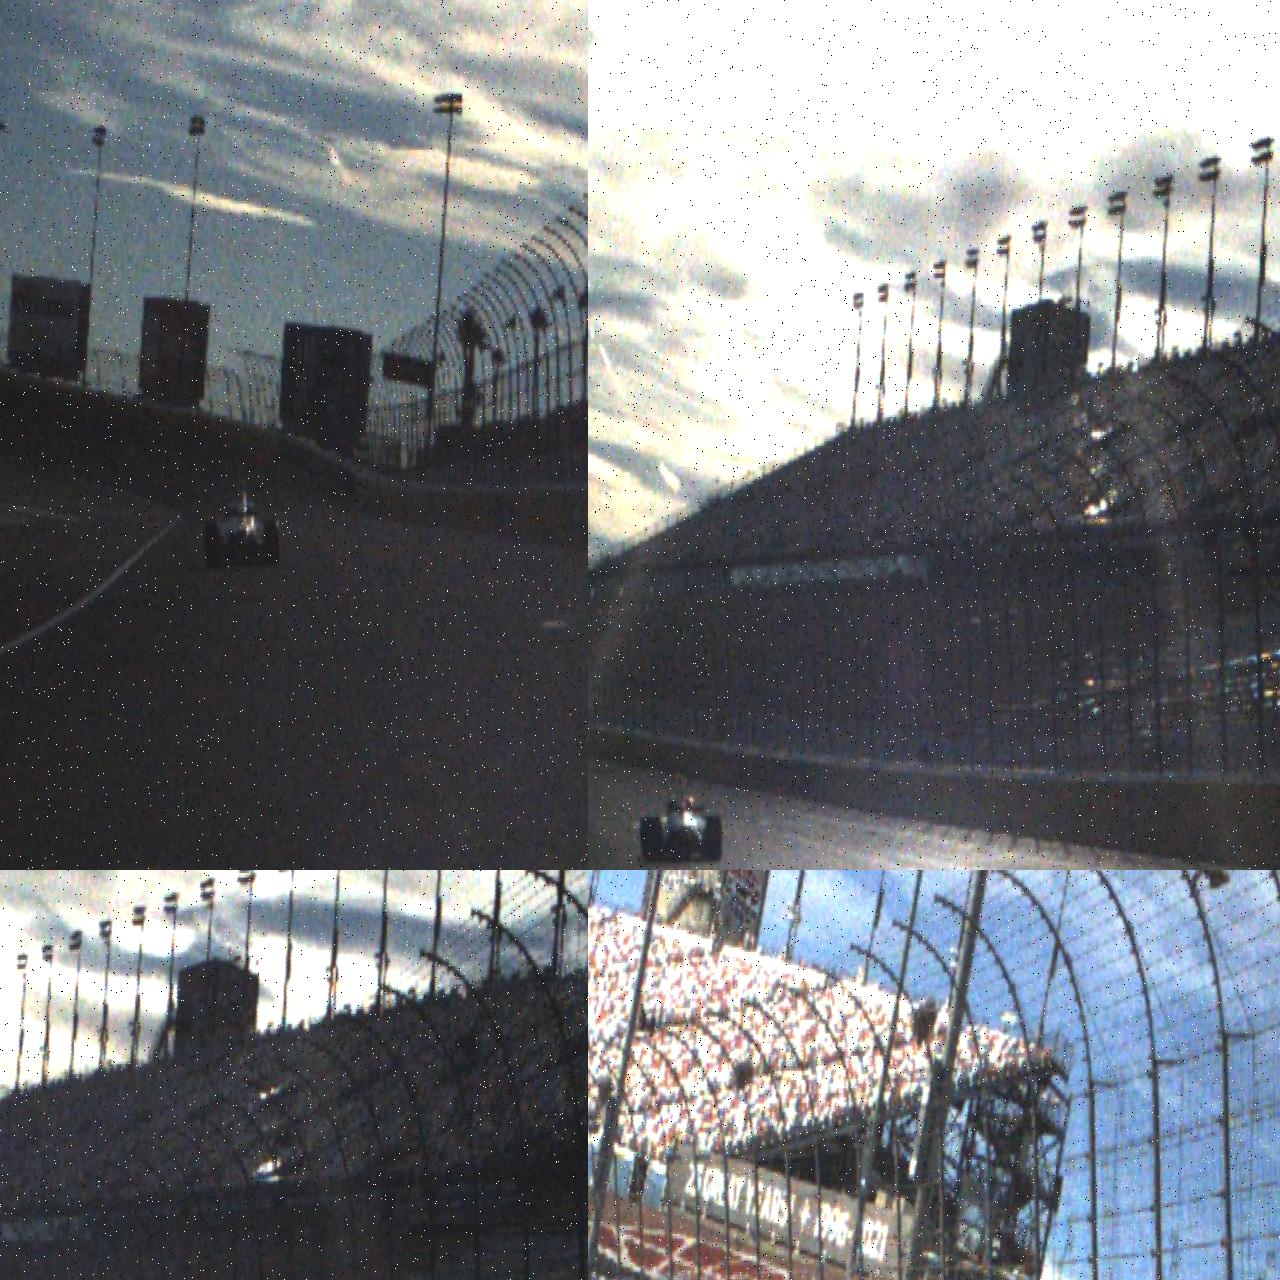AV: (639, 772, 723, 865), (203, 478, 281, 568)
Wheel: (644, 817, 663, 864), (704, 816, 723, 863), (264, 520, 281, 567), (204, 520, 218, 568)
